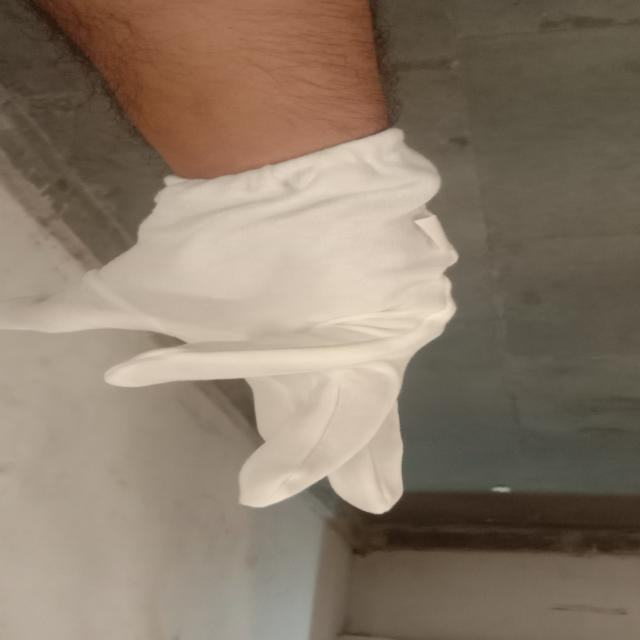gloved_hand: (8, 117, 472, 520)
